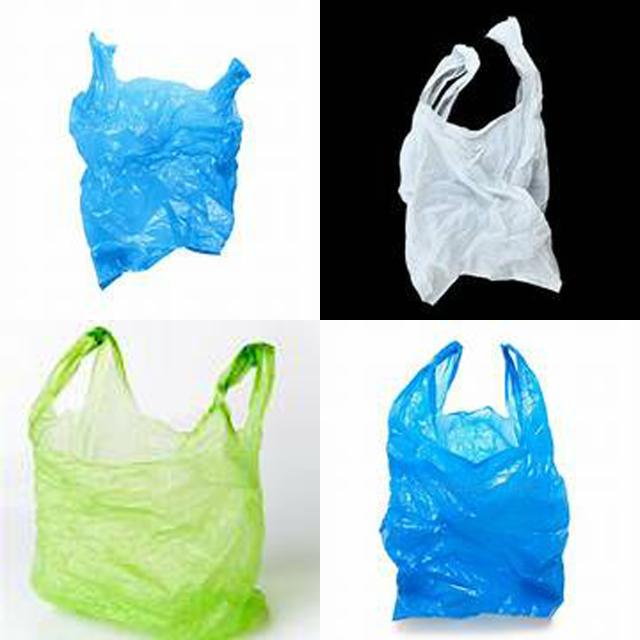Single-layer Plastic: (29, 328, 275, 640), (380, 341, 569, 620), (399, 18, 561, 304), (70, 32, 250, 289)
